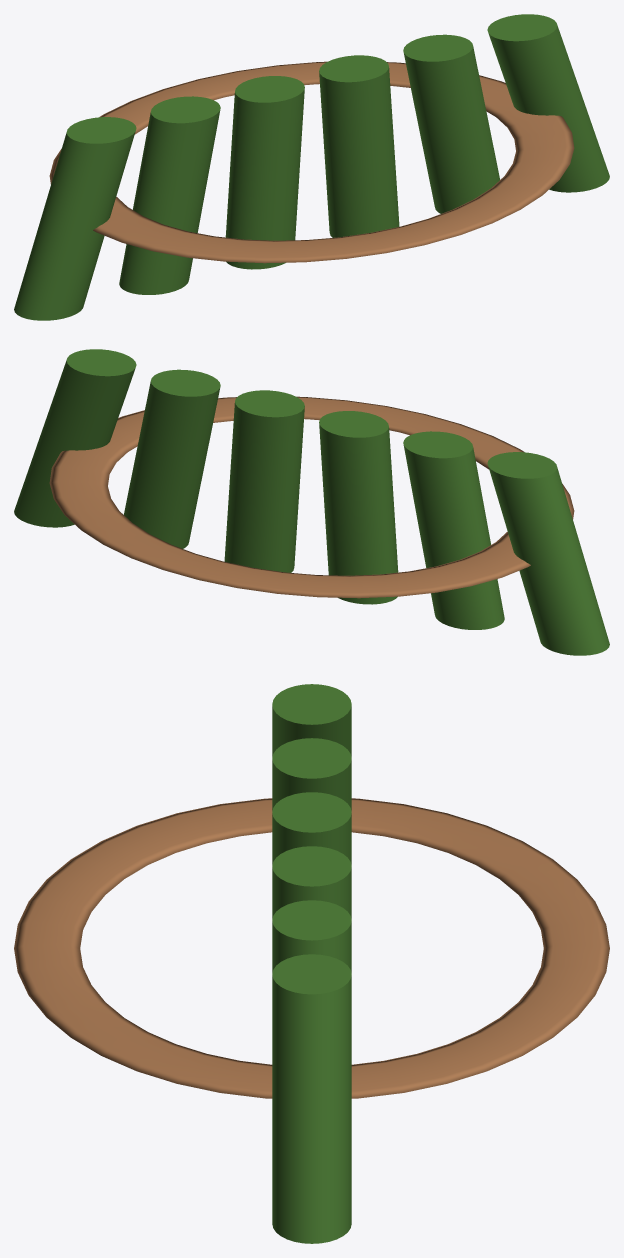
The model's file is wp-haricots-verts.glb.
The picture shows the model from 3 angles, top to bottom: view 1: azimuth 30°, elevation 25°; view 2: azimuth 150°, elevation 25°; view 3: azimuth 270°, elevation 25°; orthographic projection. The views are drawn at different scales.
Visible parts, largest first — view 1: wp-haricots-verts; view 2: wp-haricots-verts; view 3: wp-haricots-verts.
Boxes of the visible parts, left/top/right/bottom form: wp-haricots-verts: left=14, top=14, right=609, bottom=320; wp-haricots-verts: left=14, top=349, right=609, bottom=655; wp-haricots-verts: left=14, top=684, right=609, bottom=1243.
Bounding box in the file's own units: 0.15 × 0.04 × 0.1.
